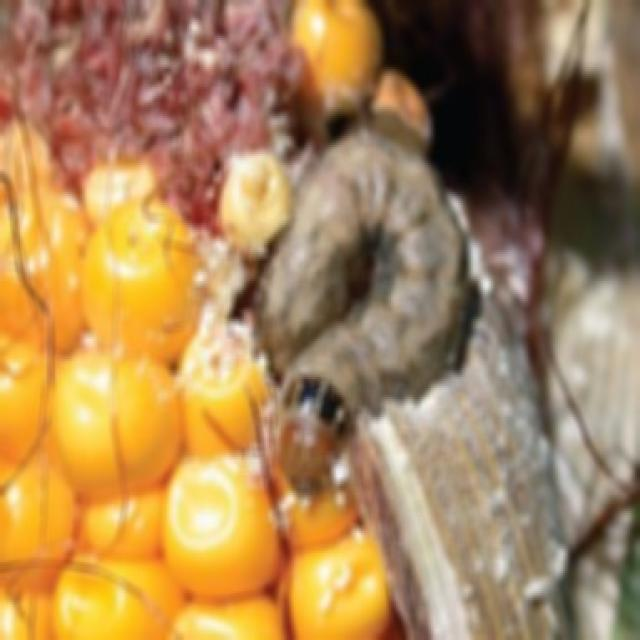black cutworm: (253, 125, 475, 484)
